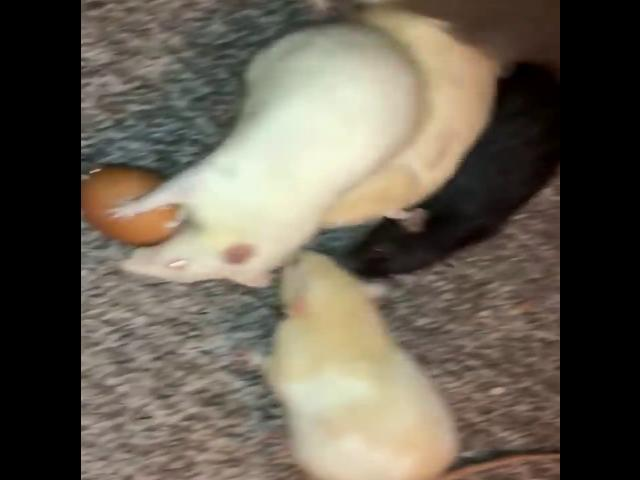Tikus: (128, 28, 408, 282), (264, 265, 472, 480), (371, 61, 560, 280)
